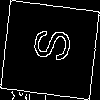S: (25, 24, 72, 64)
